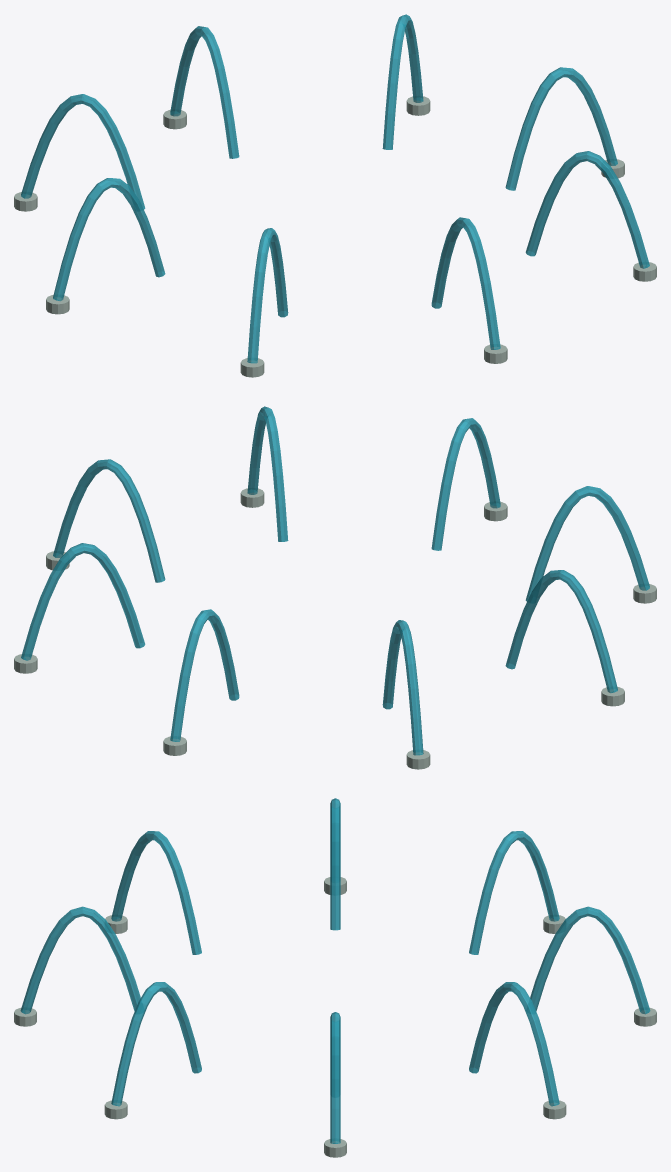
Rendered from PLAZA-007.glb.
3 renders of one model, top to bottom at view 1: azimuth 30°, elevation 25°; view 2: azimuth 150°, elevation 25°; view 3: azimuth 270°, elevation 25°, orthographic. The views are drawn at different scales.
Visible parts, largest first — view 1: PLAZA-007; view 2: PLAZA-007; view 3: PLAZA-007.
Boxes of the visible parts, x1,y1,x2,y2 form: PLAZA-007: [14, 14, 656, 377]; PLAZA-007: [14, 406, 656, 769]; PLAZA-007: [14, 798, 656, 1157].
Size of the model in its own units: 4.77 by 0.943 by 4.77.
